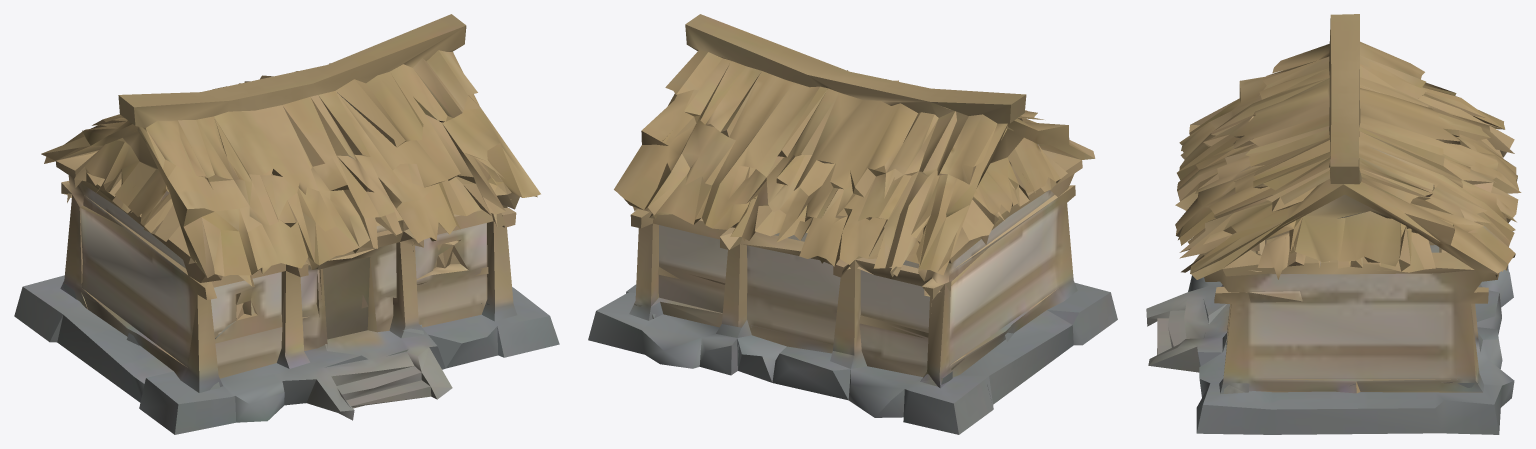
Rendered from 茅草屋.glb.
3 views of the same model, side by side, from view 1: azimuth 30°, elevation 25°; view 2: azimuth 150°, elevation 25°; view 3: azimuth 270°, elevation 25° (orthographic). The views are drawn at different scales.
Parts seen in each view (by area): view 1: geometry_0; view 2: geometry_0; view 3: geometry_0.
Boxes of the visible parts, <box> form: geometry_0: <box>14,14,559,434</box>; geometry_0: <box>588,14,1117,434</box>; geometry_0: <box>1146,14,1521,434</box>.
Size of the model in its own units: 1 by 0.6828 by 0.9012.
Materials: 1 (1 with a texture image).
